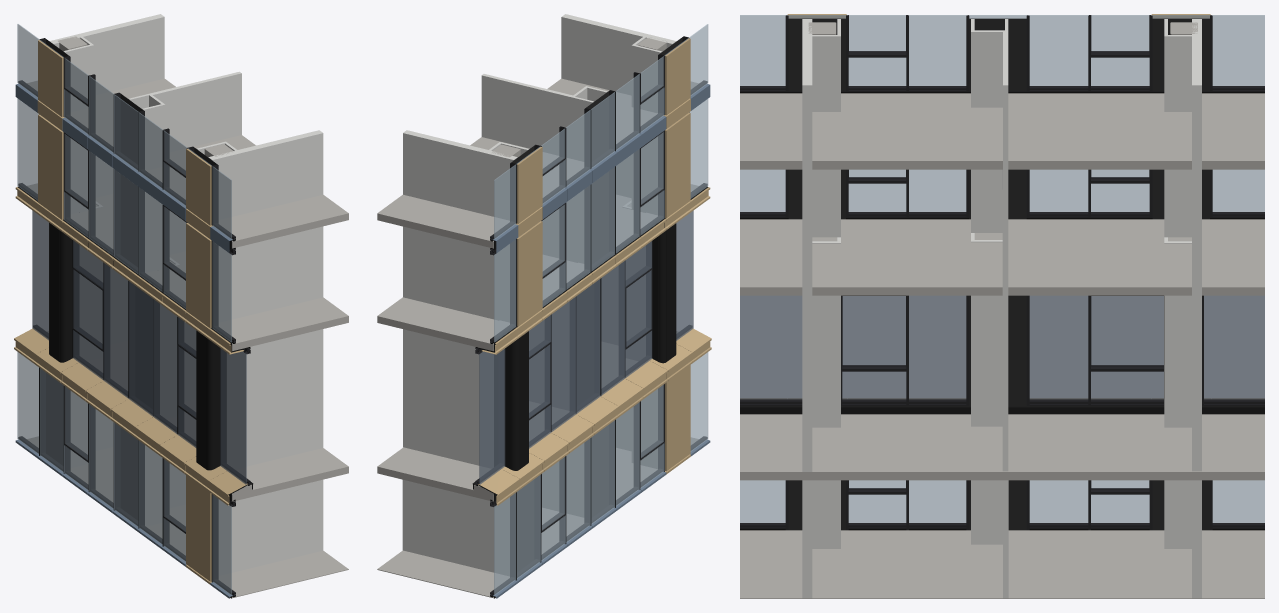
Rendered from albion.glb.
The picture shows the model from 3 angles, left to right: view 1: azimuth 30°, elevation 25°; view 2: azimuth 150°, elevation 25°; view 3: azimuth 270°, elevation 25°; orthographic projection. The views are drawn at different scales.
Parts seen in each view (by area): view 1: Interior Wall (×4), Glass, Concrete (×2), Panel Champagne Metal, Mullion Dark Metal, Glass Reveal, Back Pan Dark Metal, Column Cover Dark Metal, Slab Edge Blue Zinc, Gasket Rubber; view 2: Interior Wall (×5), Glass, Panel Champagne Metal, Concrete (×2), Glass Reveal, Mullion Dark Metal, Back Pan Dark Metal, Column Cover Dark Metal, Slab Edge Blue Zinc, Gasket Rubber; view 3: Concrete (×2), Glass, Interior Wall (×4), Glass Reveal, Mullion Dark Metal, Back Pan Dark Metal, Portal Dark Metal, Gasket Rubber, Panel Champagne Metal.
Part boxes in pixels (bbox=[...]): Interior Wall (×4): bbox=[49, 14, 323, 575]; Glass: bbox=[17, 24, 231, 595]; Concrete (×2): bbox=[27, 78, 348, 598]; Panel Champagne Metal: bbox=[14, 40, 247, 581]; Mullion Dark Metal: bbox=[18, 38, 250, 596]; Glass Reveal: bbox=[32, 210, 246, 484]; Back Pan Dark Metal: bbox=[46, 39, 217, 520]; Column Cover Dark Metal: bbox=[49, 223, 220, 470]; Slab Edge Blue Zinc: bbox=[15, 83, 232, 252]; Gasket Rubber: bbox=[19, 77, 250, 597]; Interior Wall (×5): bbox=[402, 14, 676, 576]; Glass: bbox=[494, 24, 708, 595]; Panel Champagne Metal: bbox=[478, 38, 711, 505]; Concrete (×2): bbox=[377, 78, 698, 598]; Glass Reveal: bbox=[479, 210, 693, 484]; Mullion Dark Metal: bbox=[475, 36, 707, 596]; Back Pan Dark Metal: bbox=[511, 37, 682, 572]; Column Cover Dark Metal: bbox=[494, 223, 676, 470]; Slab Edge Blue Zinc: bbox=[493, 84, 710, 253]; Gasket Rubber: bbox=[475, 74, 707, 597]; Concrete (×2): bbox=[740, 93, 1264, 598]; Glass: bbox=[740, 15, 1264, 522]; Interior Wall (×4): bbox=[802, 19, 1201, 598]; Glass Reveal: bbox=[740, 295, 1264, 399]; Mullion Dark Metal: bbox=[740, 15, 1264, 530]; Back Pan Dark Metal: bbox=[788, 18, 1209, 530]; Portal Dark Metal: bbox=[740, 405, 1264, 414]; Gasket Rubber: bbox=[740, 15, 1264, 530]; Panel Champagne Metal: bbox=[740, 14, 1264, 398].
Bounding box in the file's own units: 3.76 × 12.42 × 11.5.
